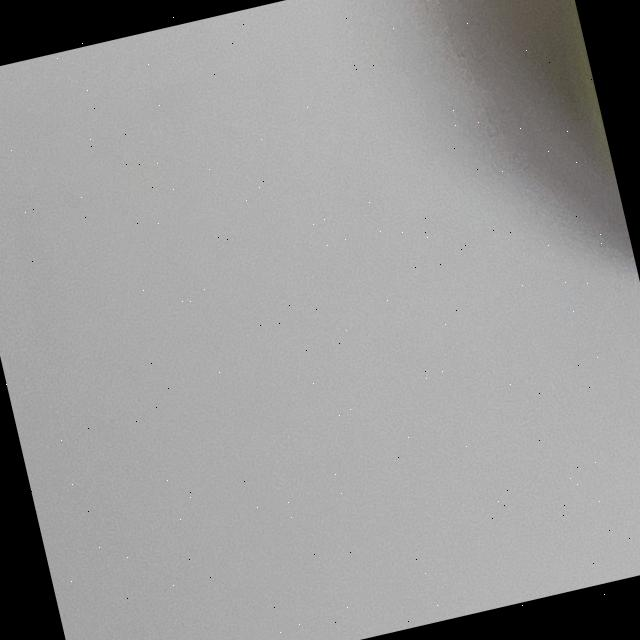tomato: (386, 0, 640, 487)
